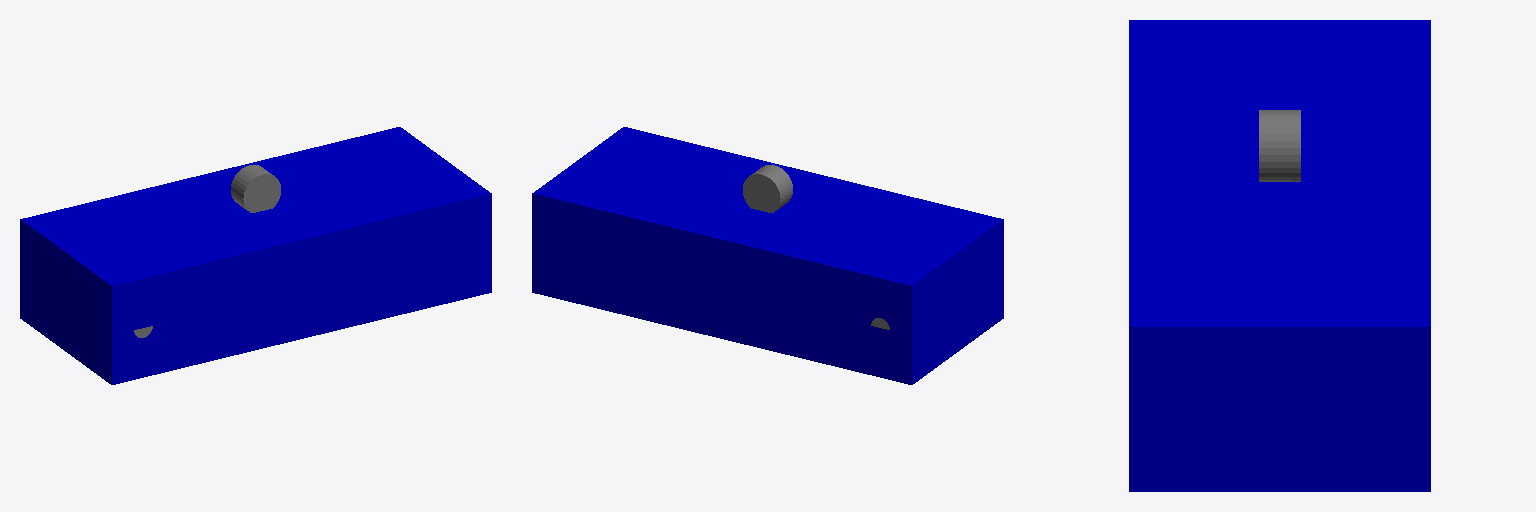
URDF robot description (ship):
<?xml version="1.0"?>
<robot name="ship" xmlns:xacro="http://ros.org/wiki/xacro">
	
	<material name="grey">
	        <color rgba="0.5 0.5 0.5 1" />
    	</material>
	
	<material name="blue">
   		<color rgba="0 0 0.8 1"/>
  	</material>
  	
	  <link name="base_footprint"/>
	 
    	<joint name="base_joint" type="fixed">
        	<parent link="base_footprint"/>
        	<child link="base_link"/>
        	<origin xyz="0 0 0" rpy="0 0 0"/>
    	</joint>
    	
    	<link name="base_link">
			<inertial>
      			<origin xyz="0 0 0" rpy="0 0 0"/>
      			<mass value="30.0"/>
      			<inertia ixx="2.5" ixy="0.0" ixz="0.0"
               		iyy="4.0" iyz="0.0"
               		izz="5.5"/>
    		</inertial>

    		<visual>
            	<geometry>
                	<box size="1.2 0.5 0.3" />
            	</geometry>
            	<origin xyz="0 0 -0.05" rpy="0 0 0" />
            	<material name="blue" />
        	</visual>

        	<collision>
        		<geometry>
            		<box size="1.2 0.5 0.3" />
        		</geometry>
        		<origin xyz="0 0 -0.05" rpy="0 0 0"/>
  			</collision>

  			<gazebo>
				<mu1>0.1</mu1> <!-- sürtünme -->
    			<mu2>0.1</mu2>
    			<kp>100</kp>   <!-- damping gain -->
    			<kd>10</kd>
  				<plugin name="diff_drive_controller" filename="libgazebo_ros_diff_drive.so">
   					<ros>
        				<remapping>cmd_vel:=/cmd_vel</remapping>
        				<remapping>odom:=/odom</remapping>
    				</ros>
   		 			<left_joint>left_thruster_joint</left_joint>
    				<right_joint>right_thruster_joint</right_joint>
    				<wheel_separation>0.4</wheel_separation>
   					<wheel_radius>0.1</wheel_radius>
    				<odom_frame>odom</odom_frame>
    				<base_frame>base_link</base_frame>
				</plugin>
			</gazebo>
			<gazebo>
  				<plugin name="imu_plugin" filename="libgazebo_ros_imu.so">
    				<ros>
      					<namespace></namespace>
      					<remapping>imu:=/imu</remapping>
    				</ros>
    				<update_rate>50</update_rate>
    				<body_name>base_link</body_name>
      				<frame_name>imu_link</frame_name>
  				</plugin>
			</gazebo>
    	</link>
    	
		<!-- IMU link ve joint tanımı -->
	<joint name="imu_joint" type="fixed">
    	<parent link="base_link"/>
    	<child link="imu_link"/>
    	<origin xyz="0 0 0.05" rpy="0 0 0"/>
	</joint>

	<link name="imu_link">
    	<inertial>
        	<origin xyz="0 0 0" rpy="0 0 0"/>
        	<mass value="0.1"/>
        	<inertia ixx="0.0001" ixy="0.0" ixz="0.0"
                 iyy="0.0001" iyz="0.0"
                 izz="0.0001"/>
    	</inertial>
    	<visual>
        	<geometry>
            	<box size="0.05 0.05 0.02"/>
        	</geometry>
        	<origin xyz="0 0 0" rpy="0 0 0"/>
        	<material name="grey"/>
    	</visual>
	</link>

	<!-- IMU plugin Gazebo için -->
	<gazebo>
    	<plugin name="imu_plugin" filename="libgazebo_ros_imu.so">
        	<ros>
            	<namespace></namespace>
            	<remapping>imu:=/imu</remapping>
        	</ros>
        	<update_rate>50</update_rate>
        	<body_name>base_link</body_name>
        	<frame_name>imu_link</frame_name>
    	</plugin>
	</gazebo>

    	<joint name="base_scan_joint" type="fixed">
        	<parent link="base_link"/>
        	<child link="base_scan"/>
        	<origin xyz="0 0 0.15" rpy="0 0 0"/>
    	</joint>
    
    	<link name="base_scan">
        	<visual>
            	<geometry>
                	<cylinder radius="0.06" length="0.07"/>
            	</geometry>
        		<origin xyz="0 0 0" rpy="1.57 0 0" />
        		<material name="grey" />
        	</visual>

        	<gazebo>
  				<sensor type="ray" name="lidar_sensor">
    				<update_rate>20</update_rate>
    				<visualize>true</visualize>
    				<ray>
      					<scan>
        					<horizontal>
          						<samples>360</samples>
          						<resolution>1</resolution>
          						<min_angle>-1.57</min_angle>
          						<max_angle>1.57</max_angle>
        					</horizontal>
      					</scan>
      					<range>
        					<min>0.1</min>
        					<max>20.0</max>
        					<resolution>0.01</resolution>
      					</range>
    				</ray>
    				<plugin name="gazebo_ros_laser" filename="libgazebo_ros_laser.so">
      					<ros>
            					<namespace></namespace>
            					<remapping>scan:=/scan</remapping>
          				</ros>
          				<frameName>base_scan</frameName>
    				</plugin>
  				</sensor>
			</gazebo>
    	</link>
    	
    	<joint name="left_thruster_joint" type="continuous">
        	<parent link="base_link"/>
        	<child link="left_thruster_link"/>
        	<origin xyz="-0.5 0.2 -0.05" rpy="0 0 0"/>
			<axis xyz="0 0 1"/>
    	</joint>

    	<link name="left_thruster_link">
			<inertial>
    			<origin xyz="0 0 0" />
    			<mass value="0.5"/>
    			<inertia ixx="0.001" ixy="0" ixz="0"
             		iyy="0.001" iyz="0"
             		izz="0.001"/>
  			</inertial>
			<gazebo>
    			<mu1>0.1</mu1> <!-- sürtünme -->
    			<mu2>0.1</mu2>
    			<kp>100</kp>   <!-- damping gain -->
    			<kd>10</kd>
			</gazebo>
			<visual>
            		<geometry>
                		<cylinder radius="0.03" length="0.1"/>
            		</geometry>
            		<origin xyz="0 0 0" rpy="1.57 0 0" />
            		<material name="grey" />
        	</visual>
        	<collision>
        		<geometry>
            			<cylinder radius="0.03" length="0.1"/>
        		</geometry>
        		<origin xyz="0 0 0" rpy="1.57 0 0"/>
    		</collision>
    	</link>
    
    	<joint name="right_thruster_joint" type="continuous">
    		<parent link="base_link"/>
    		<child link="right_thruster_link"/>
    		<origin xyz="-0.5 -0.2 -0.05" rpy="0 0 0"/>
			<axis xyz="0 0 1"/>
    	</joint>

    	<link name="right_thruster_link">
			<inertial>
    			<origin xyz="0 0 0" />
    			<mass value="0.5"/>
    			<inertia ixx="0.001" ixy="0" ixz="0"
             		iyy="0.001" iyz="0"
             		izz="0.001"/>
  			</inertial>
			<gazebo>
    			<mu1>0.1</mu1> <!-- sürtünme -->
    			<mu2>0.1</mu2>
    			<kp>100</kp>   <!-- damping gain -->
    			<kd>10</kd>
			</gazebo>
    	    <visual>
    	        <geometry>
    	            <cylinder radius="0.03" length="0.1"/>
    	        </geometry>
    	        <origin xyz="0 0 0" rpy="1.57 0 0" />
    	        <material name="grey" />
    	    </visual>
    	    	<collision>
        		<geometry>
        			<cylinder radius="0.03" length="0.1"/>
      			</geometry>
        		<origin xyz="0 0 0" rpy="1.57 0 0"/>
        	</collision>
    	</link>

</robot>

--- Render facts (derived) ---
The picture shows the robot from 3 angles, left to right: view 1: azimuth 30°, elevation 25°; view 2: azimuth 150°, elevation 25°; view 3: azimuth 270°, elevation 25°; orthographic projection.
Model ship with 6 links and 5 joints (2 continuous, 3 fixed), rooted at base_footprint, posed all joints at 0.
Visible links, largest first — view 1: base_link, base_scan; view 2: base_link, base_scan; view 3: base_link, base_scan.
Boxes of the visible links, <box> form: base_link: <box>20,127,491,384</box>; base_scan: <box>231,165,280,212</box>; base_link: <box>532,127,1003,384</box>; base_scan: <box>743,165,792,212</box>; base_link: <box>1129,20,1430,491</box>; base_scan: <box>1259,110,1300,181</box>.
Bounding box of the posed robot: 1.2 × 0.5 × 0.41 m (x, y, z).
Geometry: primitives only (box / cylinder / sphere), no mesh files.
